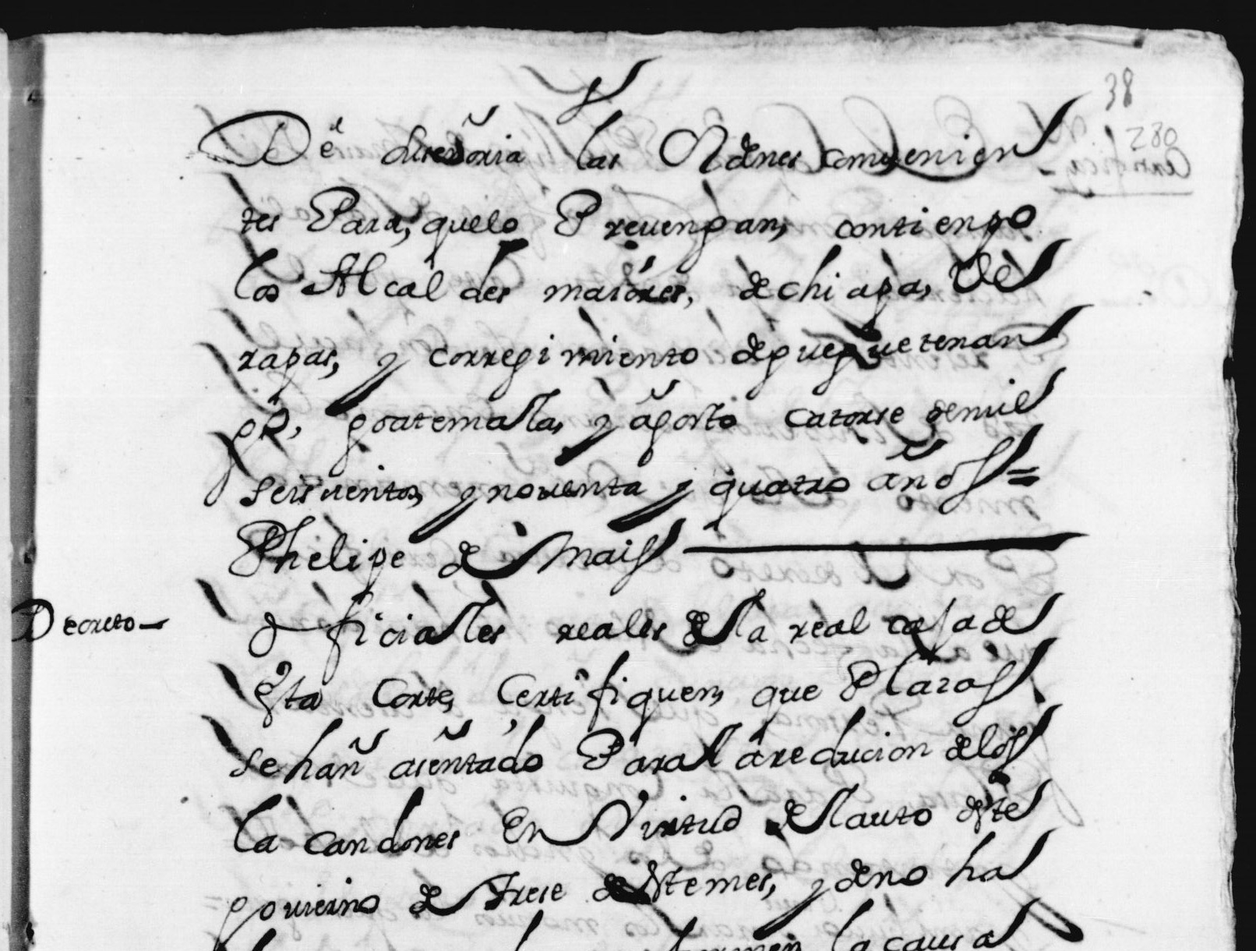lacandon: (234, 787, 460, 856)
